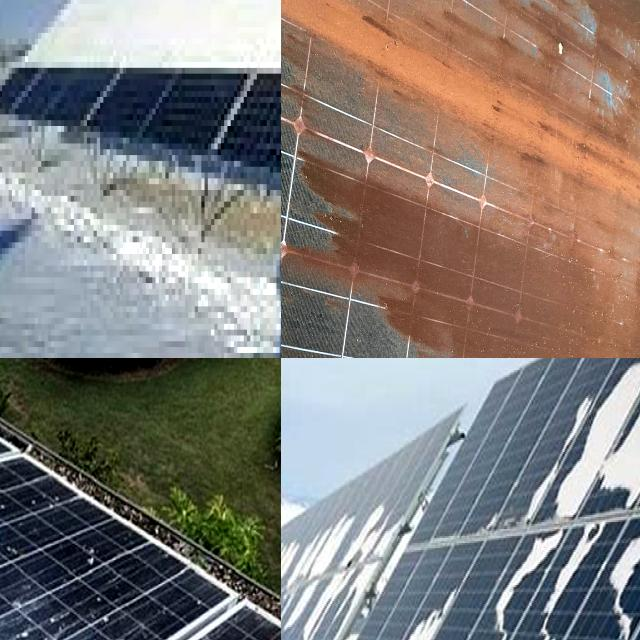bird: (0, 540, 36, 606), (64, 540, 108, 578)
dust: (304, 222, 514, 354), (389, 96, 586, 191), (525, 186, 640, 347), (356, 0, 586, 63), (281, 175, 391, 259), (586, 5, 640, 144), (281, 0, 345, 66), (281, 69, 368, 115)
panel: (32, 0, 145, 80), (166, 0, 281, 77), (487, 532, 561, 640), (554, 364, 604, 511), (496, 462, 572, 526), (381, 585, 454, 640), (592, 424, 639, 506), (351, 501, 402, 574), (621, 358, 640, 503), (291, 588, 340, 640), (607, 515, 640, 583), (300, 521, 350, 565), (568, 524, 610, 573), (538, 578, 567, 640), (281, 526, 302, 606), (608, 598, 640, 640), (281, 584, 306, 635)
